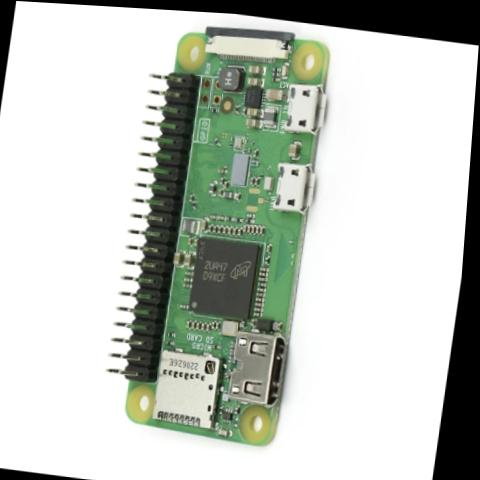Raspberry-Pi-Zero-WH: (101, 10, 338, 447)
